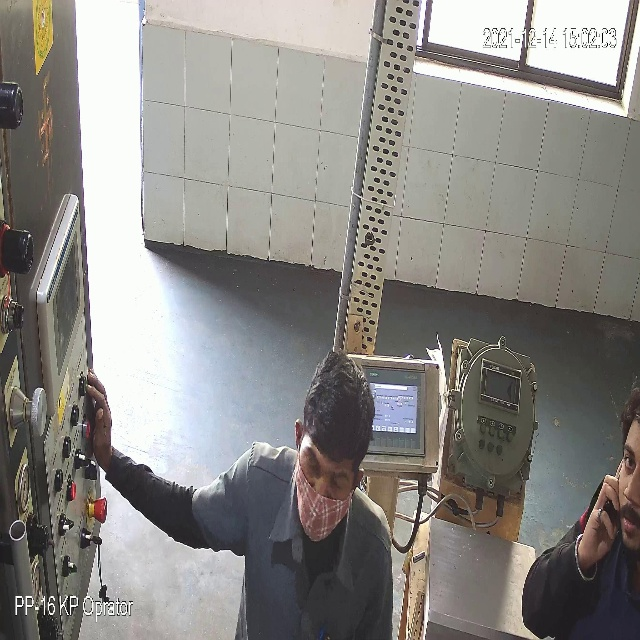Sin_gafas: (299, 442, 354, 499)
